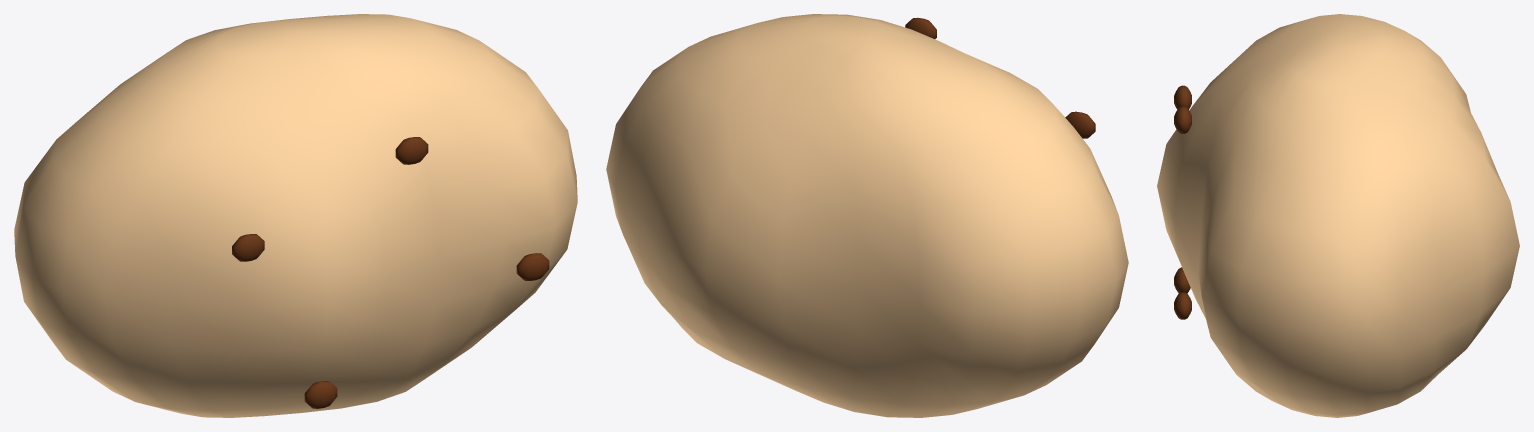
The model's file is potato.fbx.
The picture shows the model from 3 angles, left to right: view 1: azimuth 30°, elevation 25°; view 2: azimuth 150°, elevation 25°; view 3: azimuth 270°, elevation 25°; orthographic projection. The views are drawn at different scales.
Parts seen in each view (by area): view 1: potato; view 2: potato; view 3: potato.
Boxes of the visible parts, x1,y1,x2,y2 form: potato: (14,14,577,417); potato: (606,14,1128,417); potato: (1157,14,1519,417).
Size of the model in its own units: 100 by 67.44 by 66.54.
Materials: 1 (1 with a texture image).
